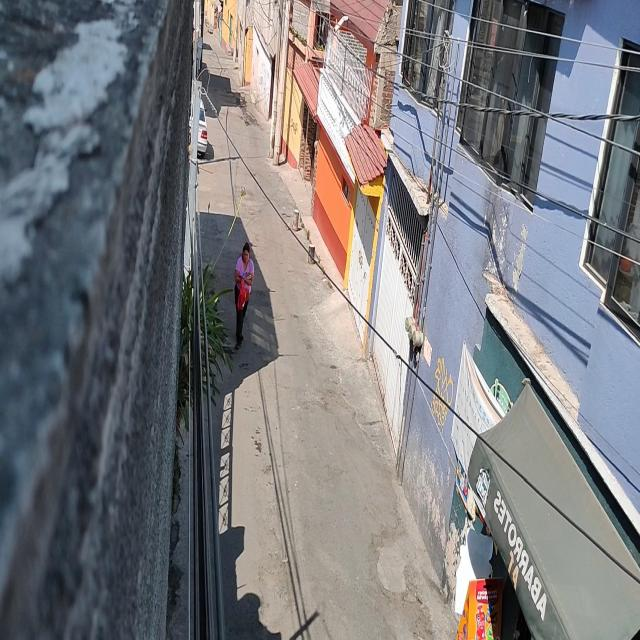adult: (234, 241, 255, 352)
